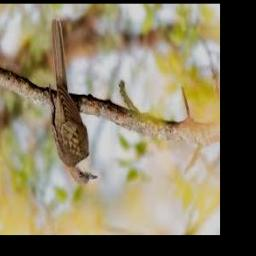Cuckoo: (50, 15, 99, 185)
